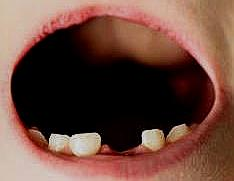Hypodontia: (100, 128, 149, 155)
